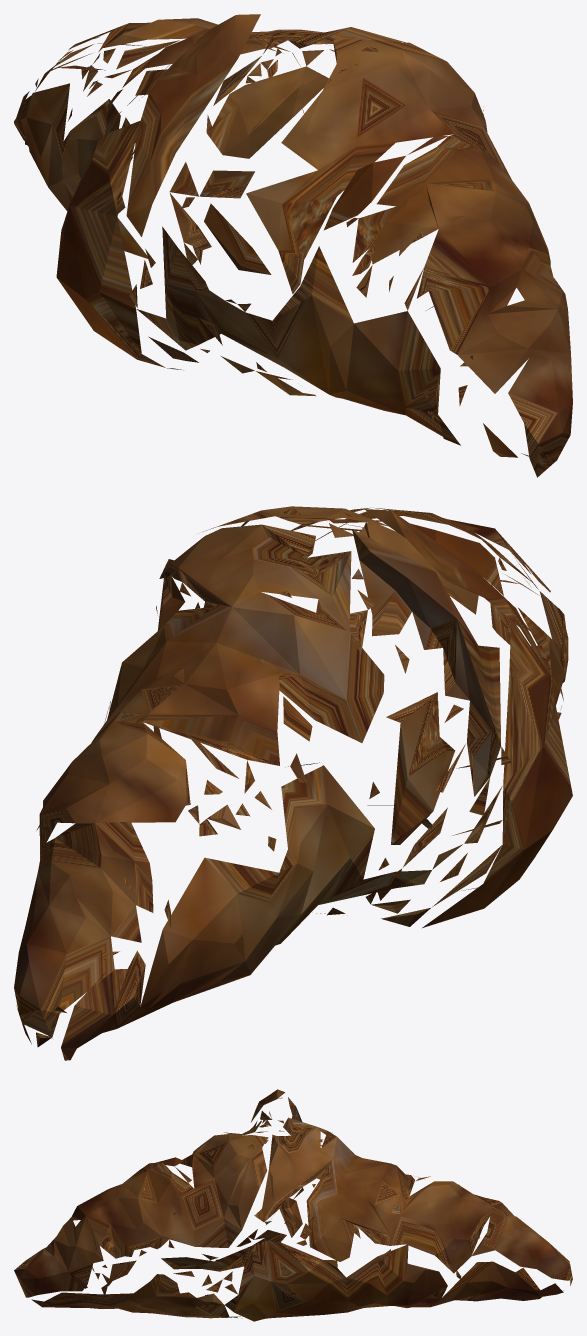
The model's file is food_prepared_croissant_c01.glb.
The picture shows the model from 3 angles, top to bottom: view 1: azimuth 30°, elevation 25°; view 2: azimuth 150°, elevation 25°; view 3: azimuth 270°, elevation 25°; orthographic projection. The views are drawn at different scales.
Visible parts, largest first — view 1: geometry_0; view 2: geometry_0; view 3: geometry_0.
Part boxes in pixels (<box>): geometry_0: <box>14,14,572,477</box>; geometry_0: <box>14,506,572,1060</box>; geometry_0: <box>14,1089,572,1321</box>.
Bounding box in the file's own units: 0.1901 × 0.1582 × 0.42.
Materials: 1 (1 with a texture image).
